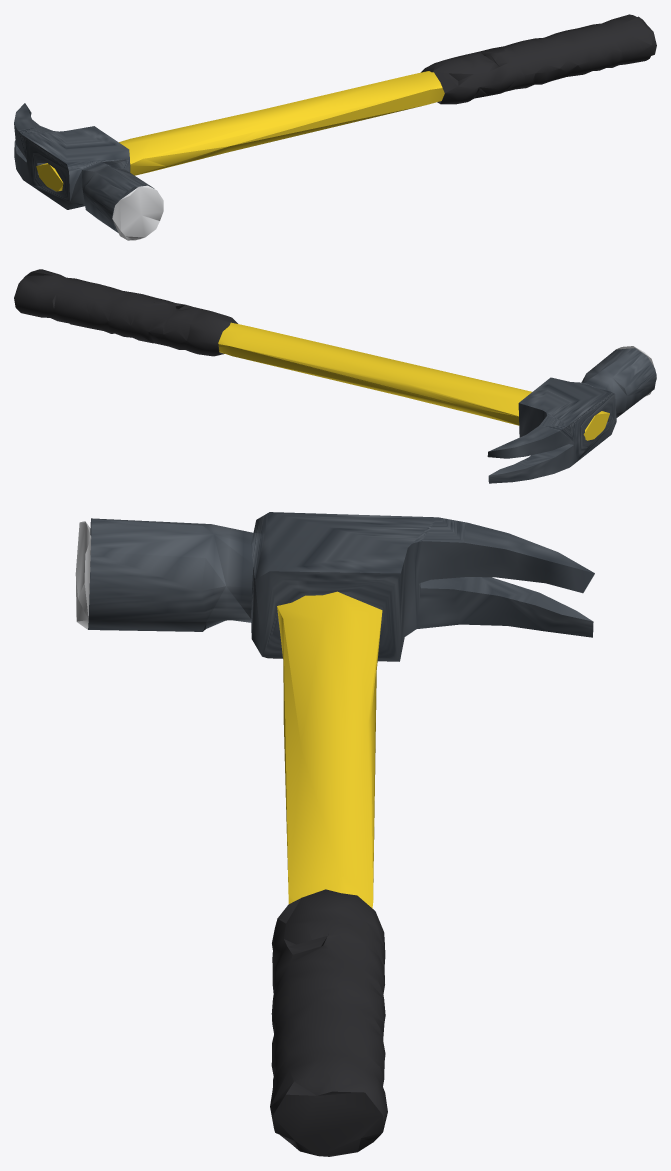
File: simready-hammer-claw.lite.7d21154d.glb
The picture shows the model from 3 angles, top to bottom: view 1: azimuth 30°, elevation 25°; view 2: azimuth 150°, elevation 25°; view 3: azimuth 270°, elevation 25°; orthographic projection. The views are drawn at different scales.
Parts seen in each view (by area): view 1: model; view 2: model; view 3: model.
Boxes of the visible parts, x1,y1,x2,y2 form: model: (14, 14, 656, 240); model: (14, 269, 656, 483); model: (75, 512, 594, 1156).
Bounding box in the file's own units: 0.3301 × 0.0292 × 0.13.
4 materials, 1 textured.
